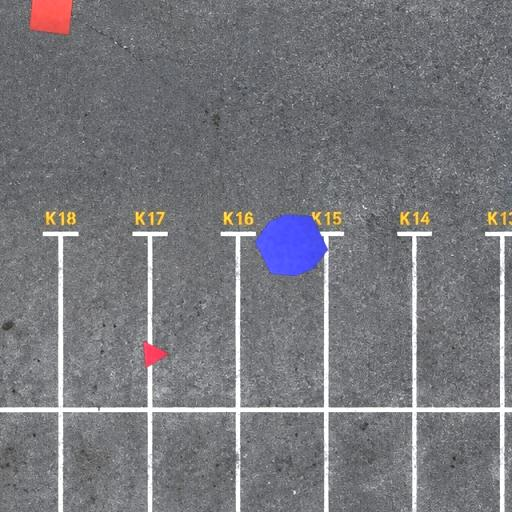RED_SQUARE: (28, 0, 74, 36)
